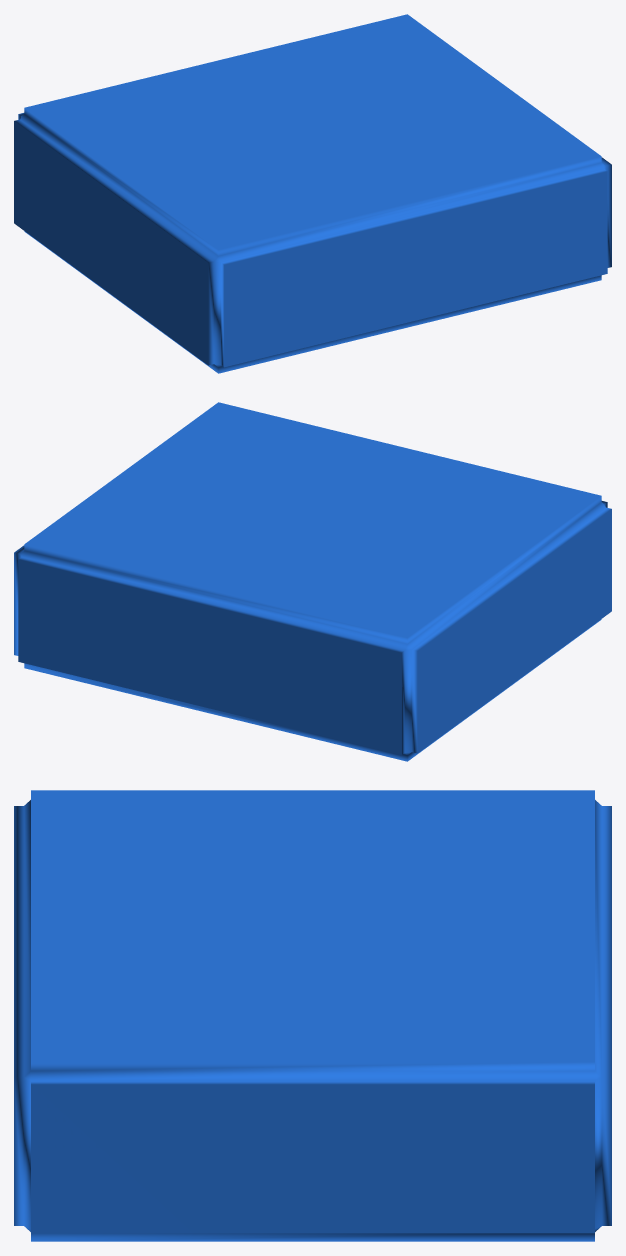
File: hypercar_rear_clamshell_fenders.glb
3 views of the same model, one above another, from view 1: azimuth 30°, elevation 25°; view 2: azimuth 150°, elevation 25°; view 3: azimuth 270°, elevation 25° (orthographic). The views are drawn at different scales.
Parts seen in each view (by area): view 1: Hypercar_Rear_Clamshell_Fenders; view 2: Hypercar_Rear_Clamshell_Fenders; view 3: Hypercar_Rear_Clamshell_Fenders.
Boxes of the visible parts, bbox=[...] form: Hypercar_Rear_Clamshell_Fenders: bbox=[14, 14, 611, 373]; Hypercar_Rear_Clamshell_Fenders: bbox=[14, 402, 611, 761]; Hypercar_Rear_Clamshell_Fenders: bbox=[14, 790, 611, 1241].
Size of the model in its own units: 1.98 by 0.58 by 1.75.
